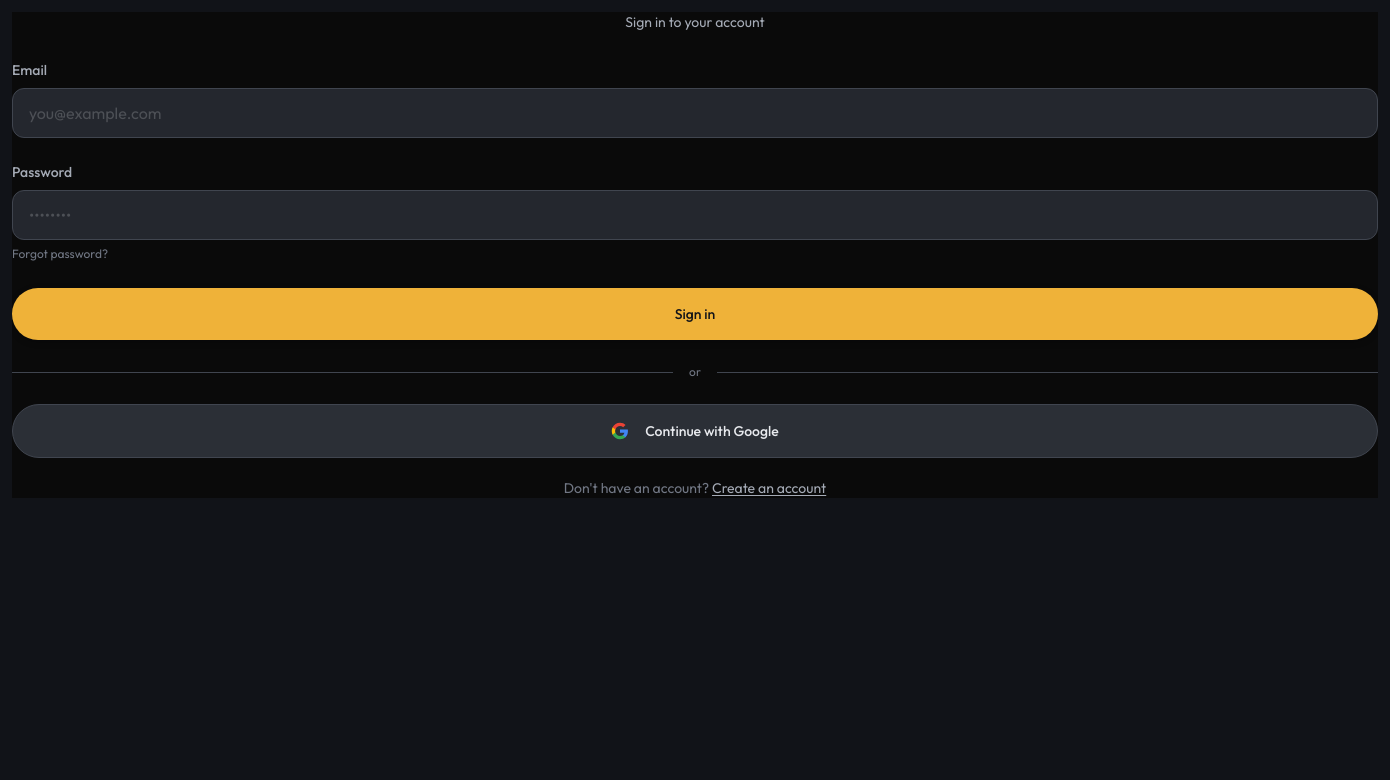
LoginForm › shows error message when auth fails
This screenshot has width=1390, height=780.
Type "bad@example.com" into the field labelled "Email" at {"x": 695, "y": 113}, box [12,88,1378,138]
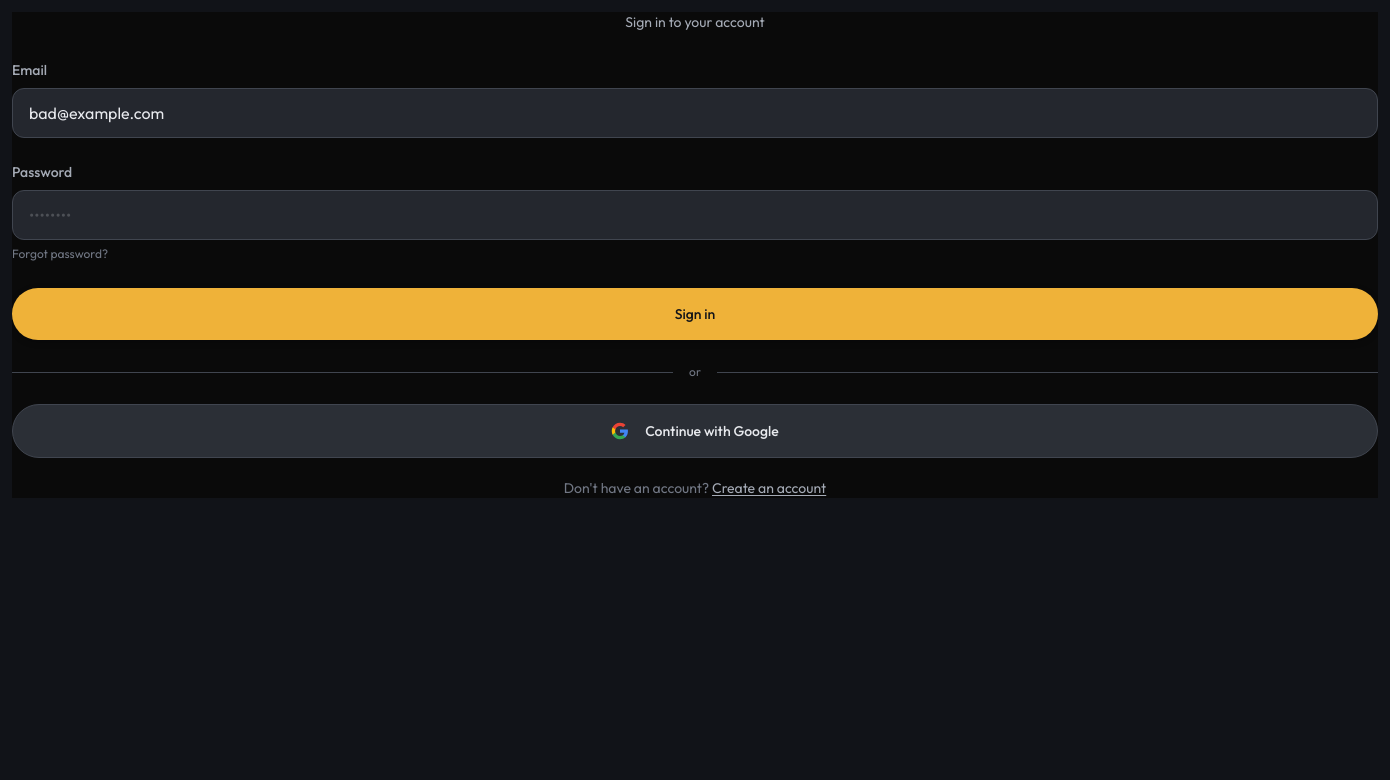
Type "wrong" into the password field labelled "Password" at {"x": 695, "y": 215}, box [12,190,1378,240]
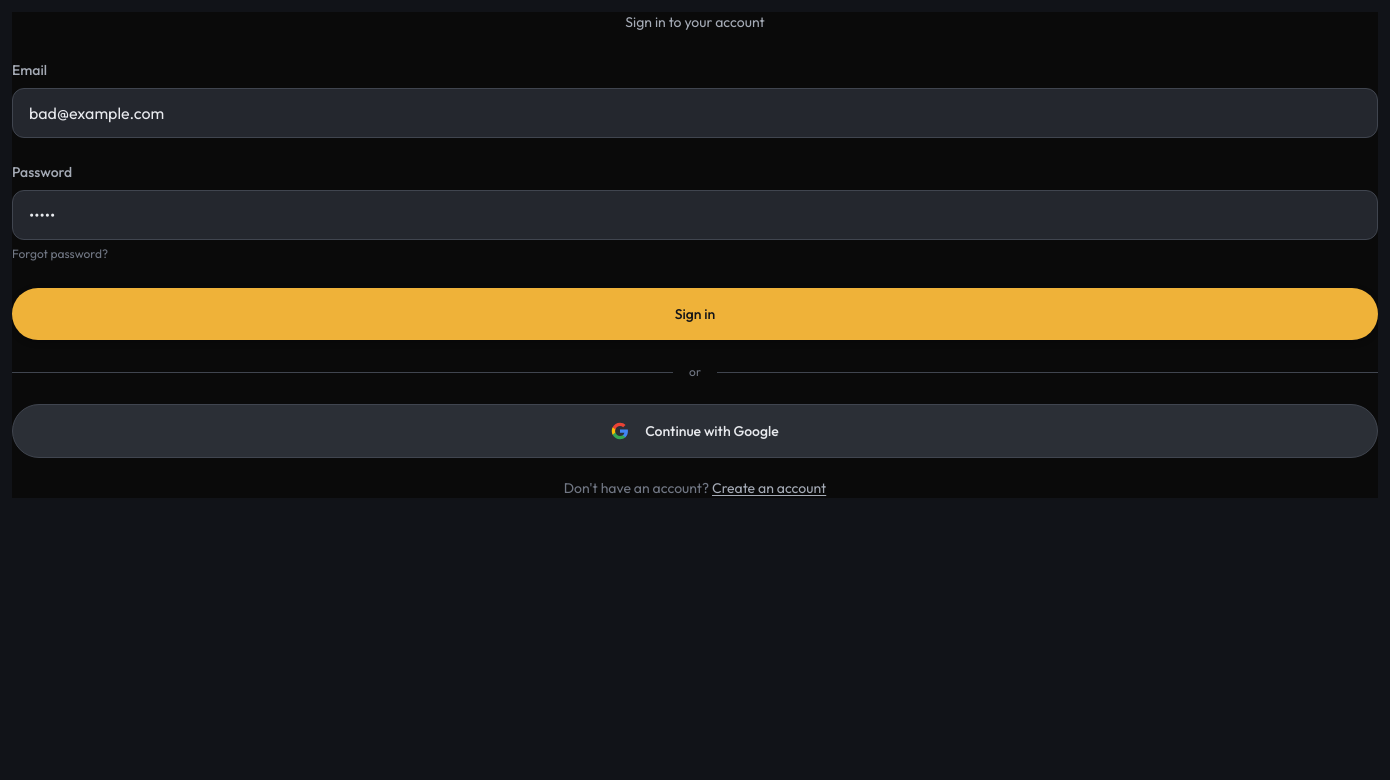
Click the button "Sign in" at {"x": 695, "y": 314}, box [12,288,1378,340]
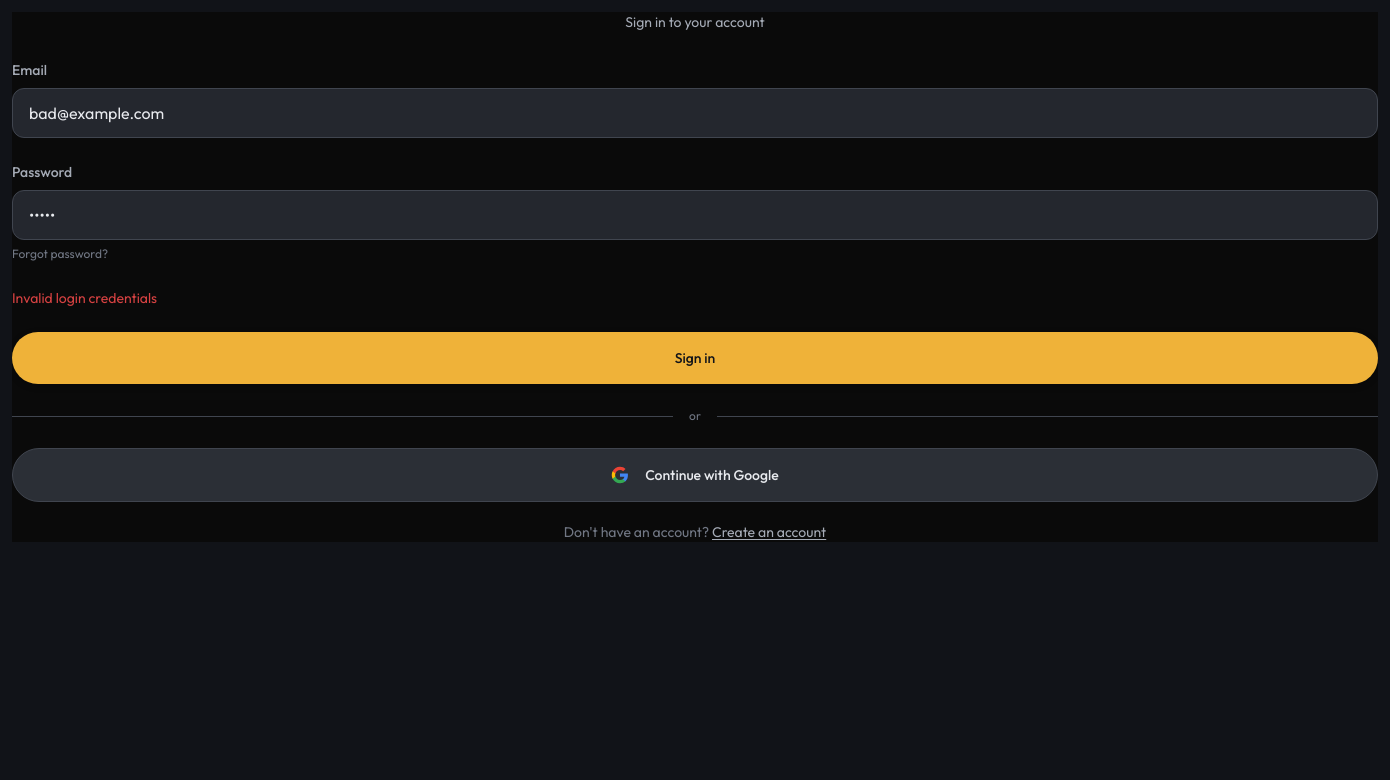
Expected: the message reads "Invalid login credentials", [12,289,157,307]
